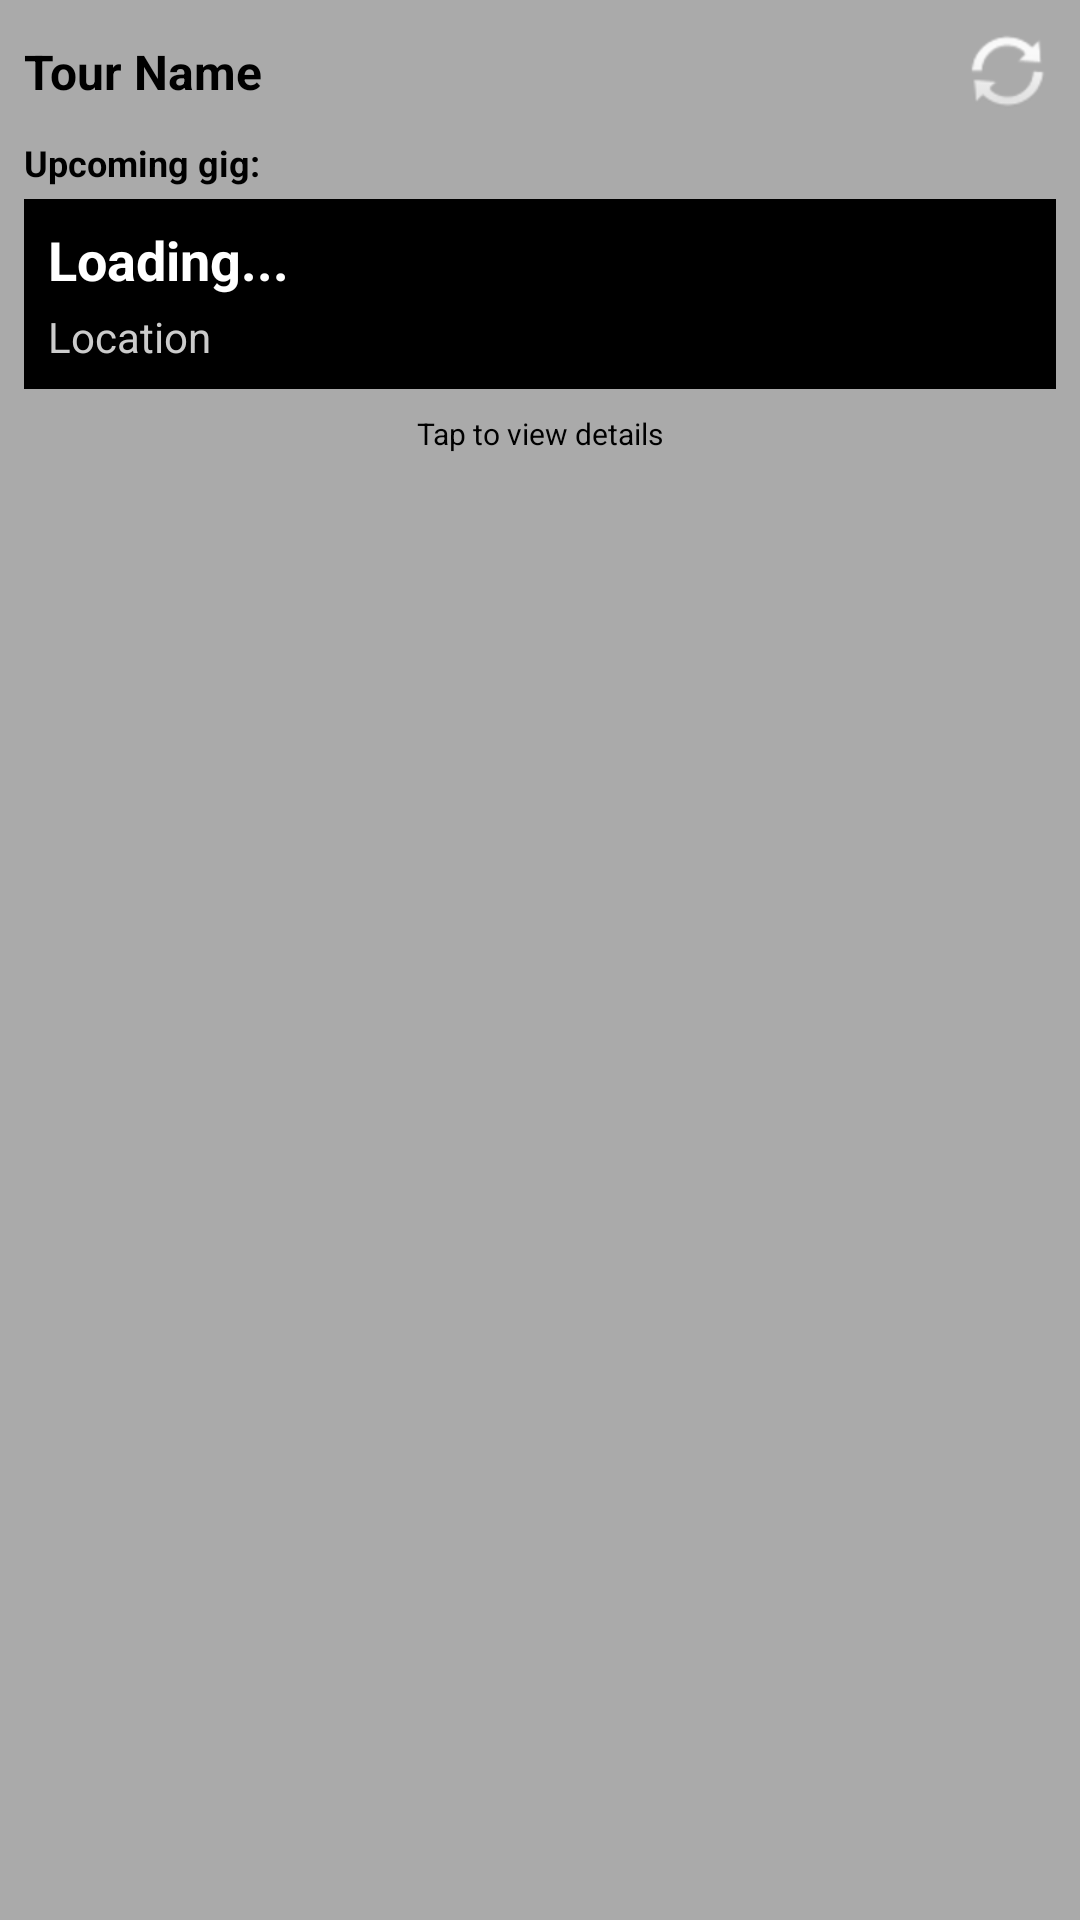

Named icons in this screenshot (1080 x 1920) and their centers, (x=x, y=y):
Refresh widget: (x=1007, y=71)
